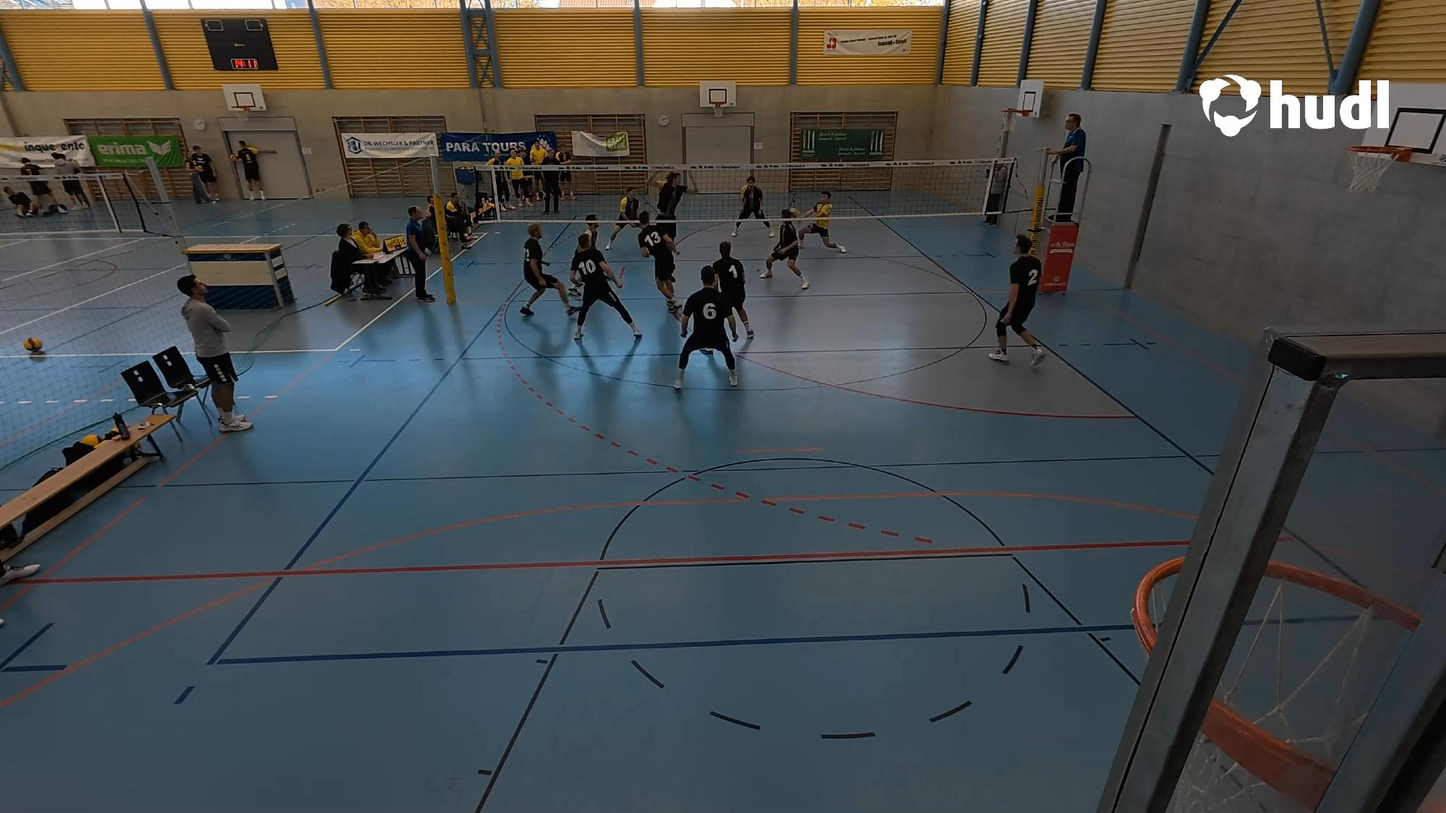Dig: (803, 194, 849, 255)
Player: (980, 224, 1057, 375), (666, 267, 741, 392), (570, 231, 642, 348), (713, 238, 757, 354), (636, 212, 682, 318), (515, 225, 567, 317), (763, 208, 809, 292), (566, 215, 611, 295), (649, 162, 698, 234), (730, 176, 774, 240), (612, 186, 645, 249)
ball: (786, 201, 803, 222)
